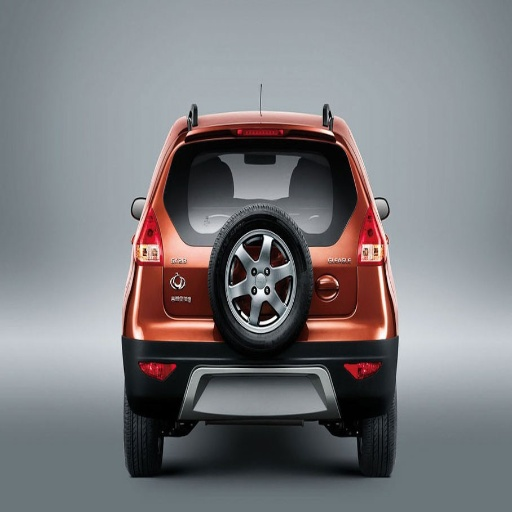back_bumper: (123, 276, 245, 412), (306, 248, 392, 397)
trunk: (140, 198, 229, 337), (298, 211, 366, 306)
